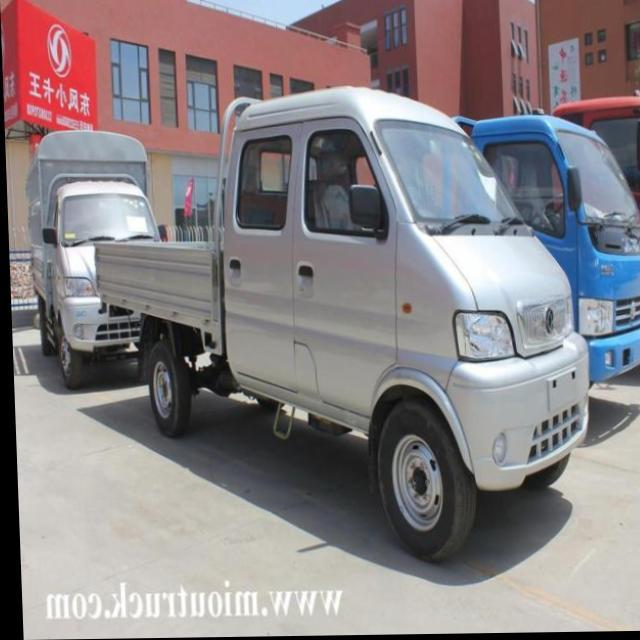covered: (11, 111, 150, 247)
uncovered: (95, 153, 535, 520)
